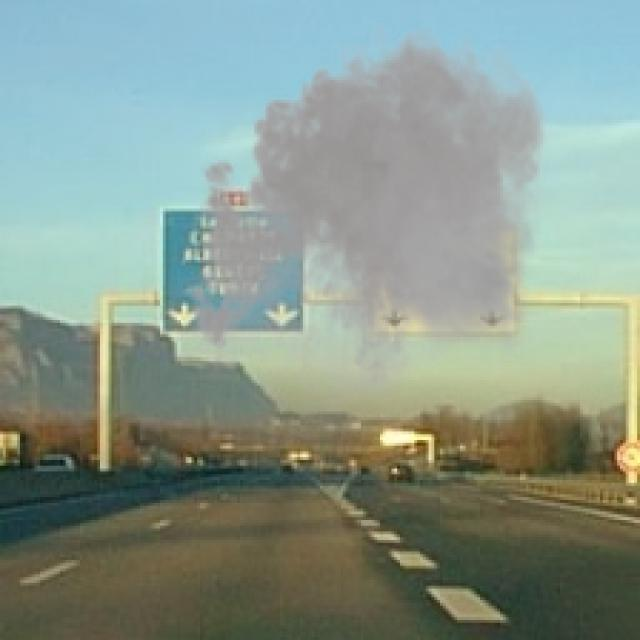Smoke: (177, 14, 560, 414)
